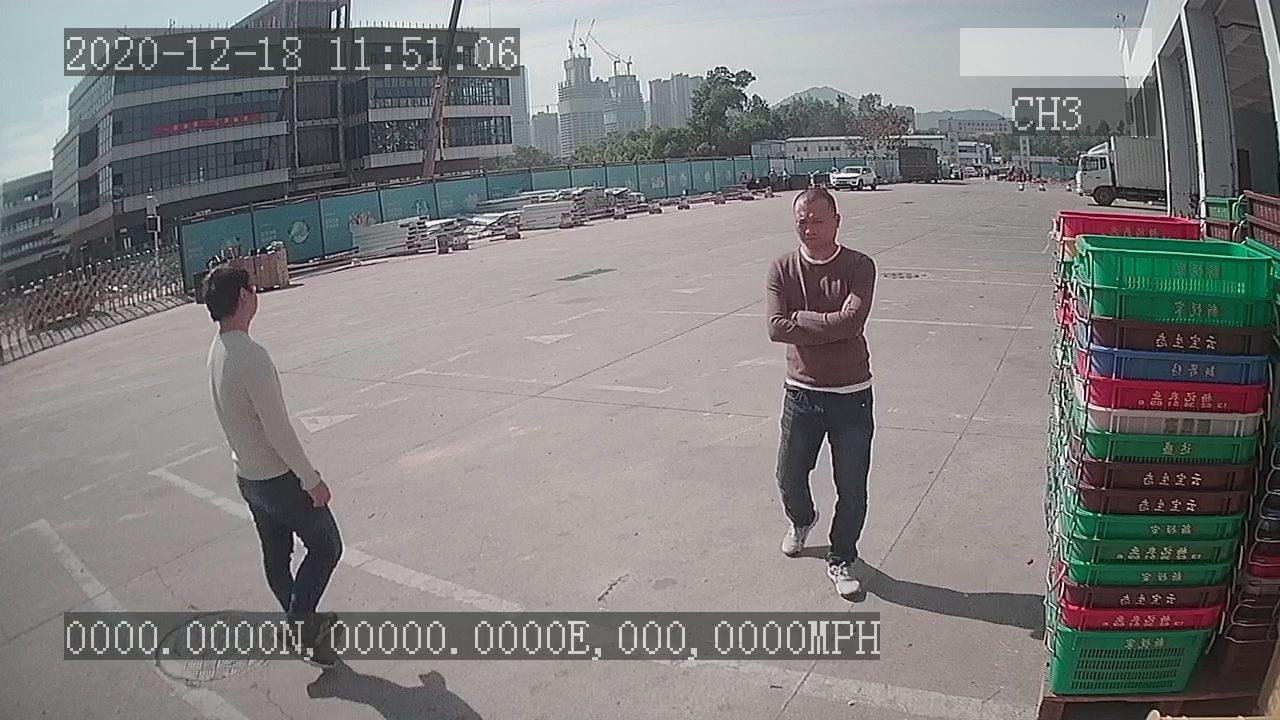person: (752, 181, 884, 608)
